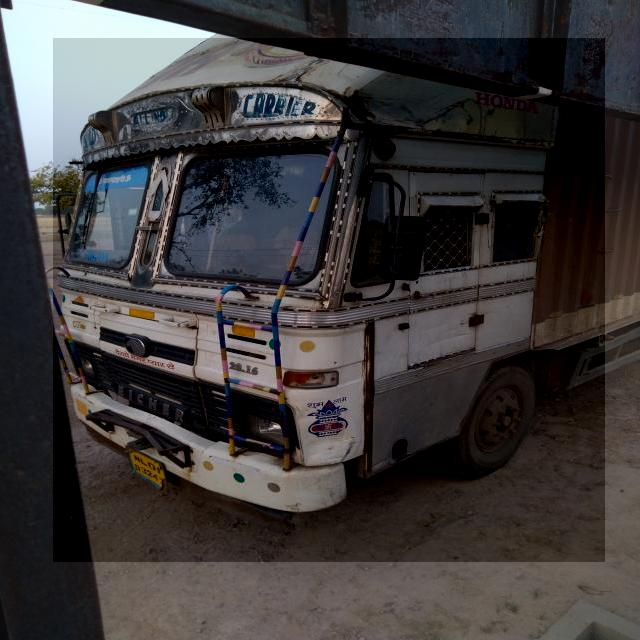Truck: (54, 38, 606, 562)
